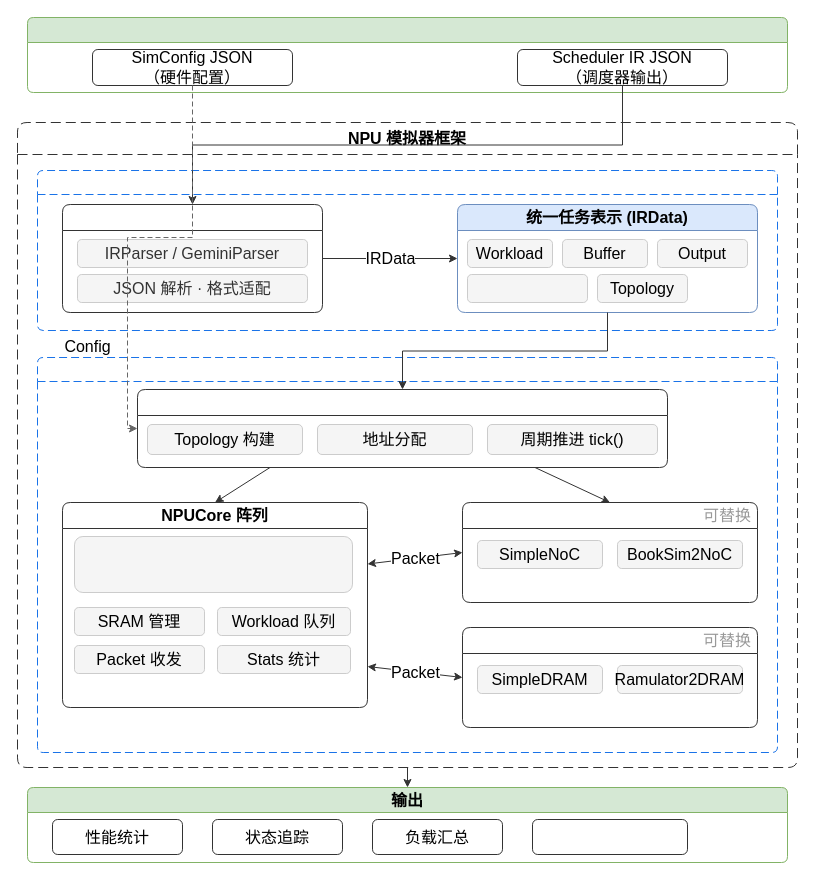
Image size: 815x880. Some labels were removed from this diagram. The box of each missing label's shape, as (x1, y1, x2, y2) in pixels:
DRAMTransfer: (466, 274, 588, 302)
IR 解析器: (62, 204, 322, 312)
MemoryInterface: (462, 626, 758, 728)
NetworkInterface: (462, 502, 758, 602)
Simulator 控制器: (136, 388, 668, 468)
前端解析引擎: (36, 170, 778, 330)
核心状态图: (532, 818, 688, 854)
模拟执行引擎: (36, 356, 778, 752)
状态机 (IDLE→LOADING→COMPUTING→WRITEBACK): (74, 536, 352, 592)
输入: (26, 16, 788, 92)
